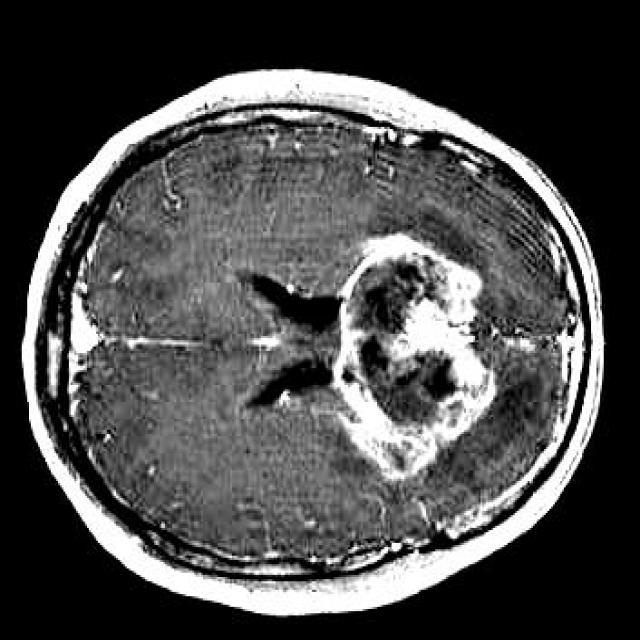tumor: (330, 233, 500, 480)
